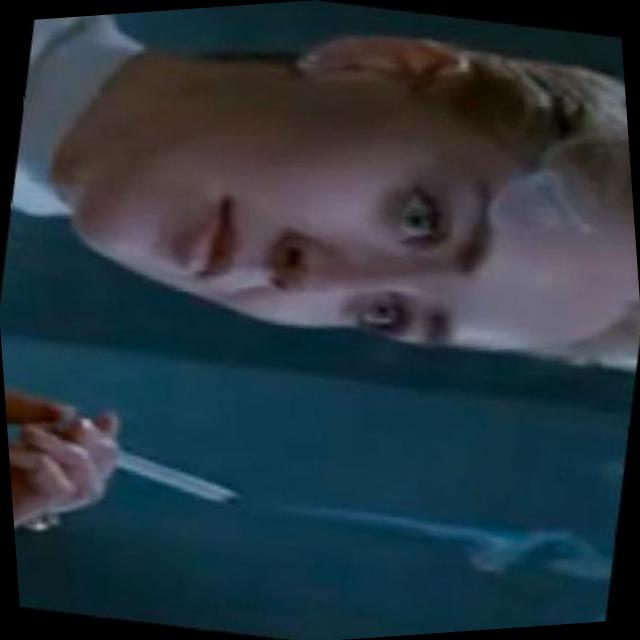cigarette: (4, 371, 255, 526)
